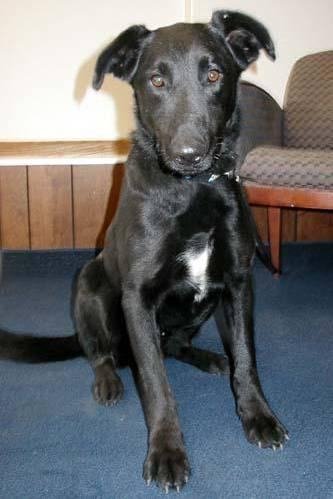dog: (75, 10, 288, 491)
